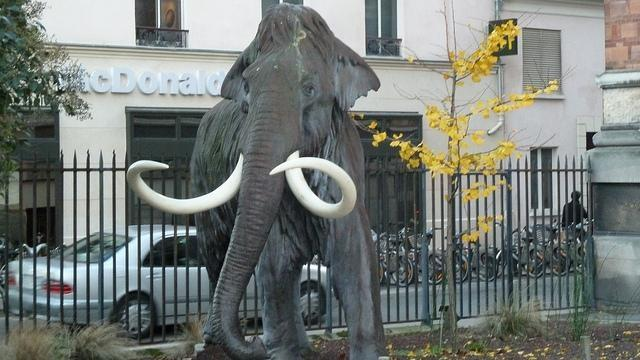bicycle: (452, 229, 499, 282), (373, 230, 415, 288), (408, 227, 447, 287), (532, 219, 571, 277), (511, 236, 547, 280), (496, 228, 518, 278), (568, 222, 588, 276), (0, 244, 33, 271), (454, 252, 471, 282)
car: (1, 224, 327, 336)
motorcycle: (389, 228, 414, 286)
